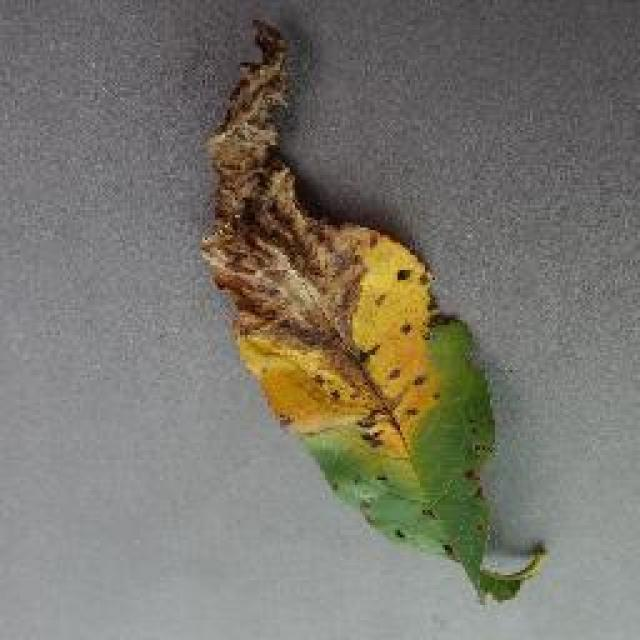Peach_Bacterial_Spot: (182, 62, 473, 430)
